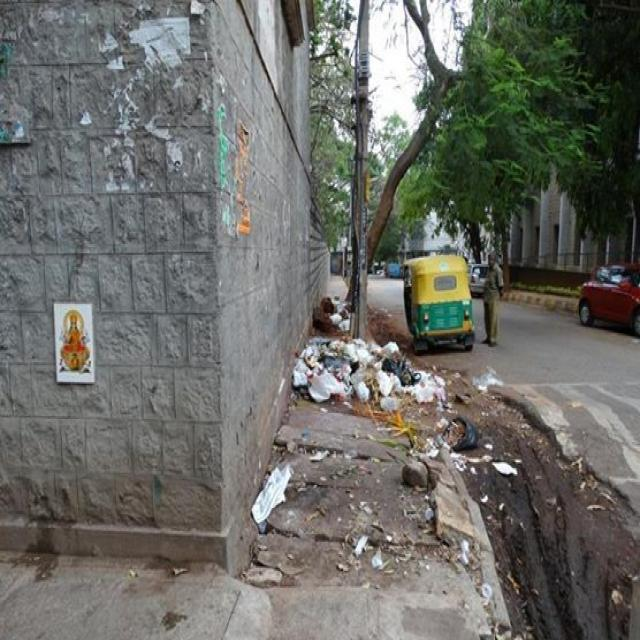trash: (287, 317, 461, 425)
